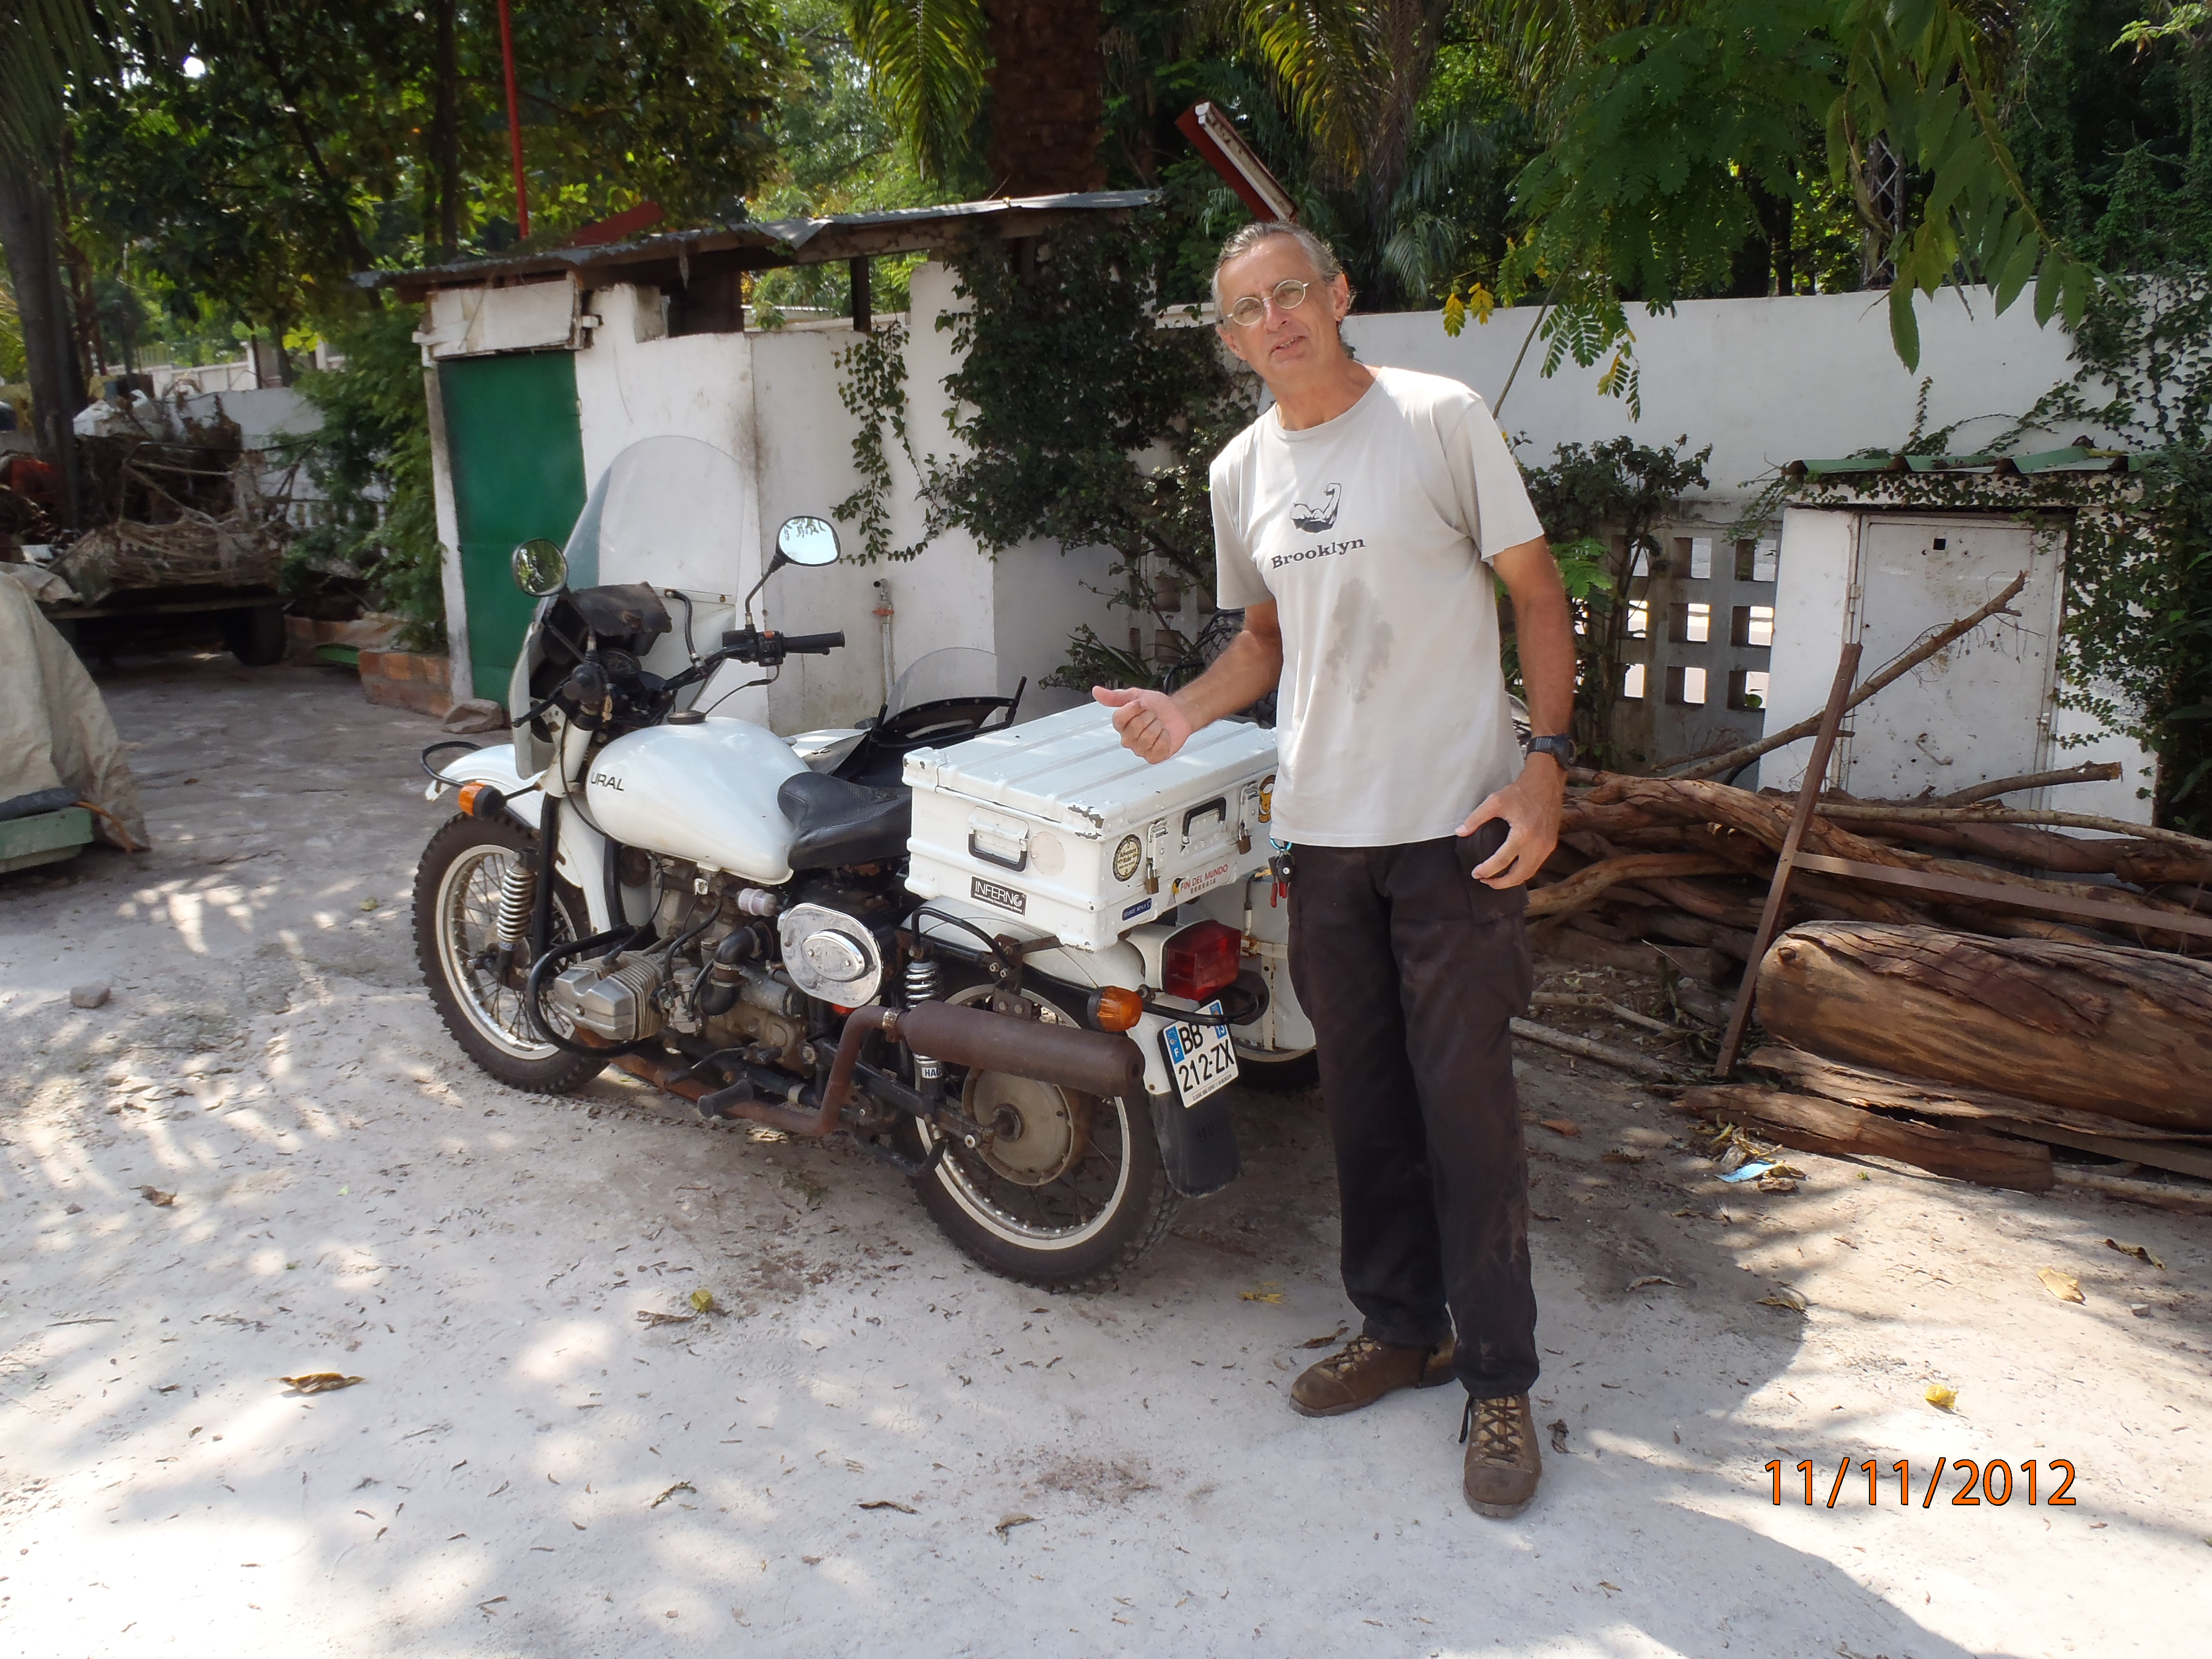motorbike: (374, 559, 1324, 1302)
